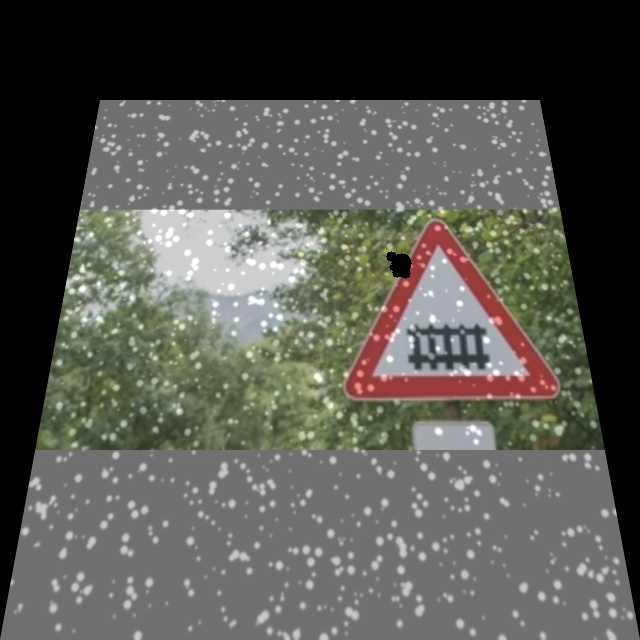Guarded_Level_Crossing: (346, 220, 565, 402)
